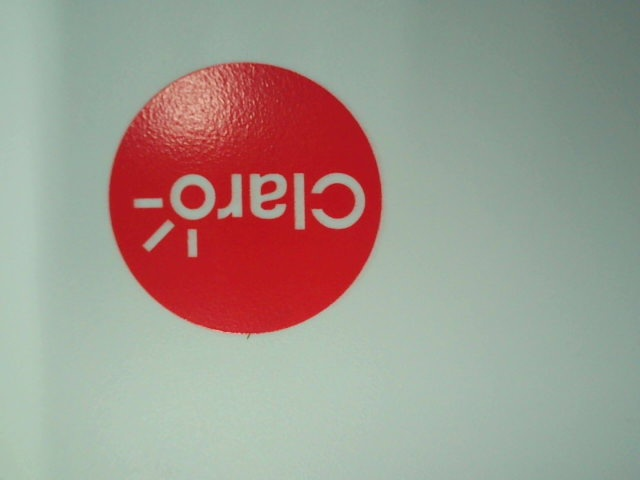BC_ClaorRed: (104, 60, 386, 336)
